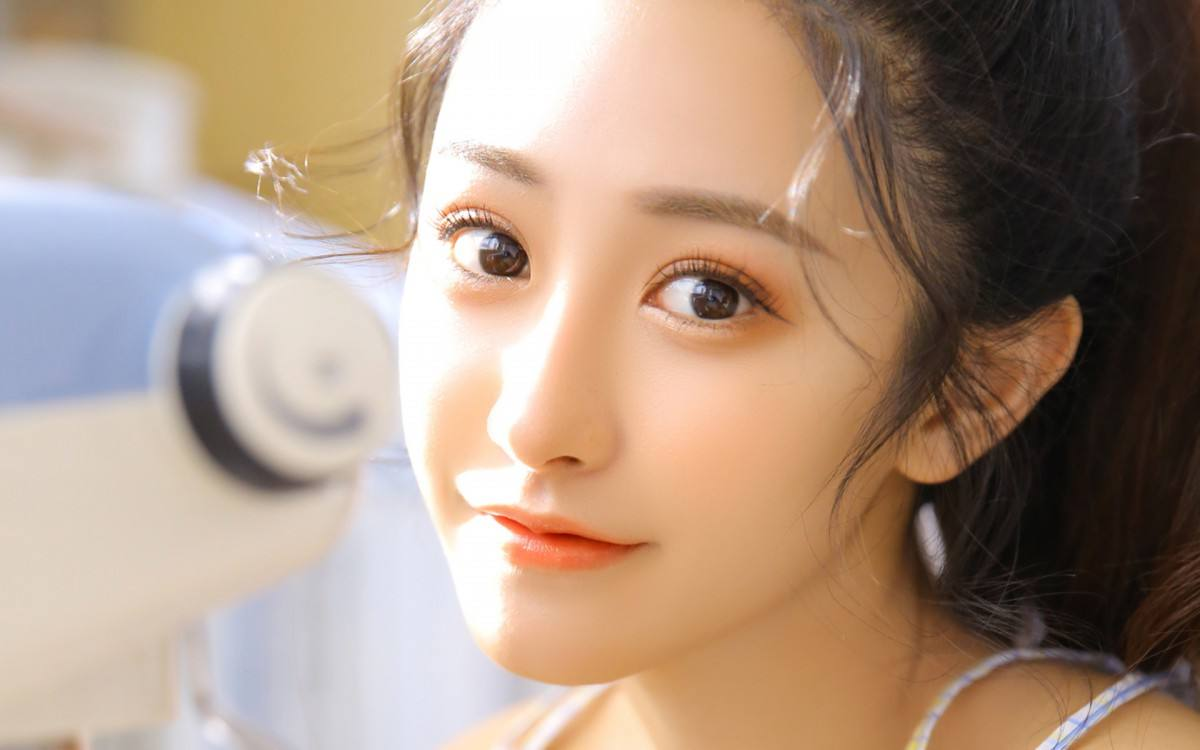person: (234, 18, 1034, 664)
